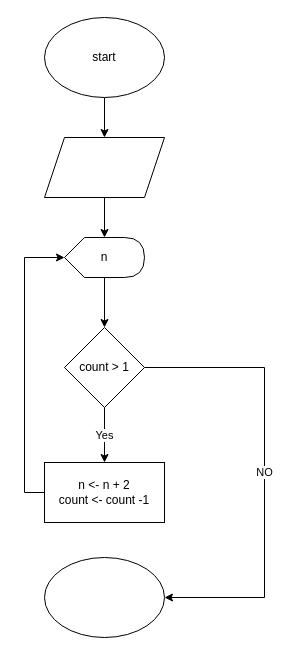
The diagram is 290 pixels wide and 655 high, and some of its shapes have lost their labels. Each missing label, with the centre of its shape:
"count <- input n <- 1" belongs at (x=104, y=167).
"end" belongs at (x=104, y=597).
